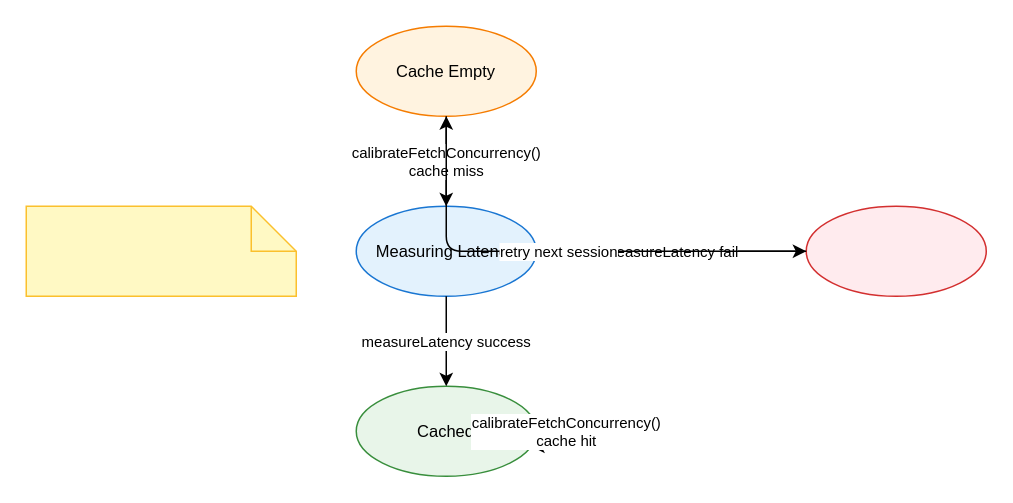
Some shapes in this 1013 by 503 pixel diagram are drawn without their labels. Each missing label, with the centre of its shape:
Probe Failed: point 895,250
probeLatencyCache state per operator ID: point 160,250
